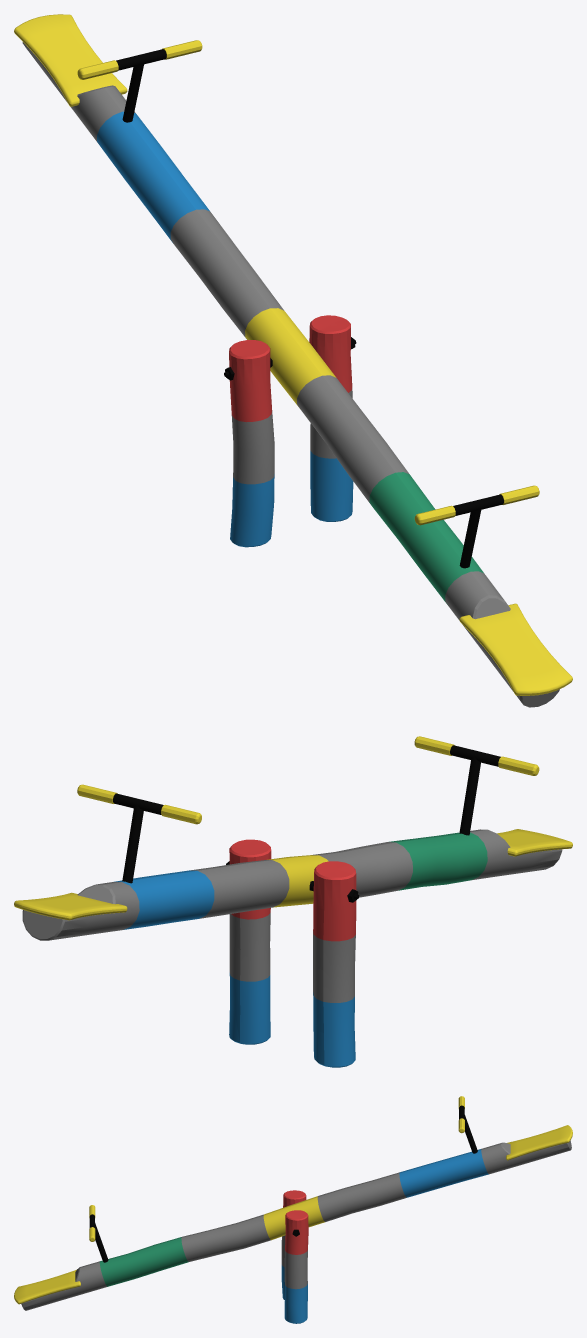
Rendered from subeBaja.FBX.
3 views of the same model, one above another, from view 1: azimuth 30°, elevation 25°; view 2: azimuth 150°, elevation 25°; view 3: azimuth 270°, elevation 25° (orthographic). The views are drawn at different scales.
Parts seen in each view (by area): view 1: 01i8 brinq; view 2: 01i8 brinq; view 3: 01i8 brinq.
Part boxes in pixels (box(x1,y1,x2,y2)): 01i8 brinq: box(14, 14, 572, 707); 01i8 brinq: box(14, 736, 572, 1067); 01i8 brinq: box(14, 1096, 572, 1323).
Bounding box in the file's own units: 16.97 × 45.05 × 115.
